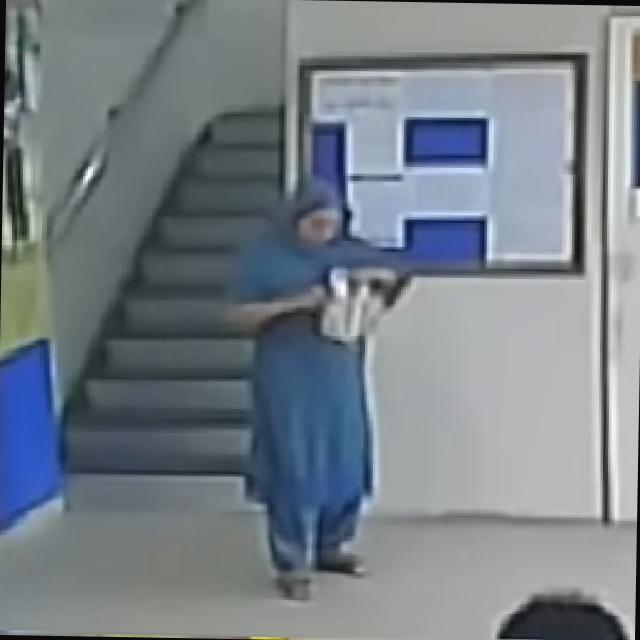person: (223, 174, 410, 602)
